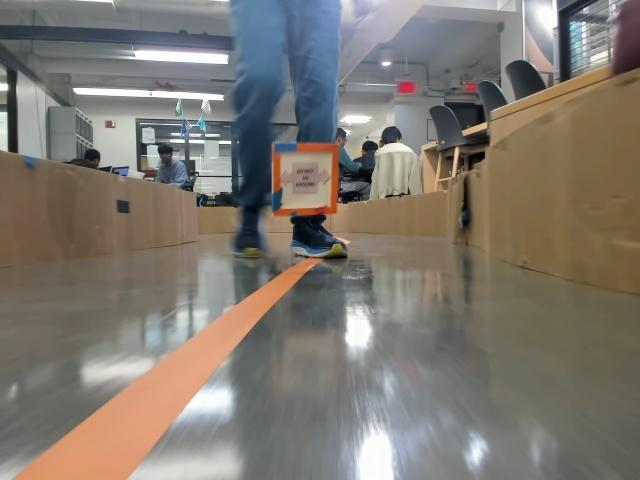Do Not Go Around: (280, 161, 329, 194)
